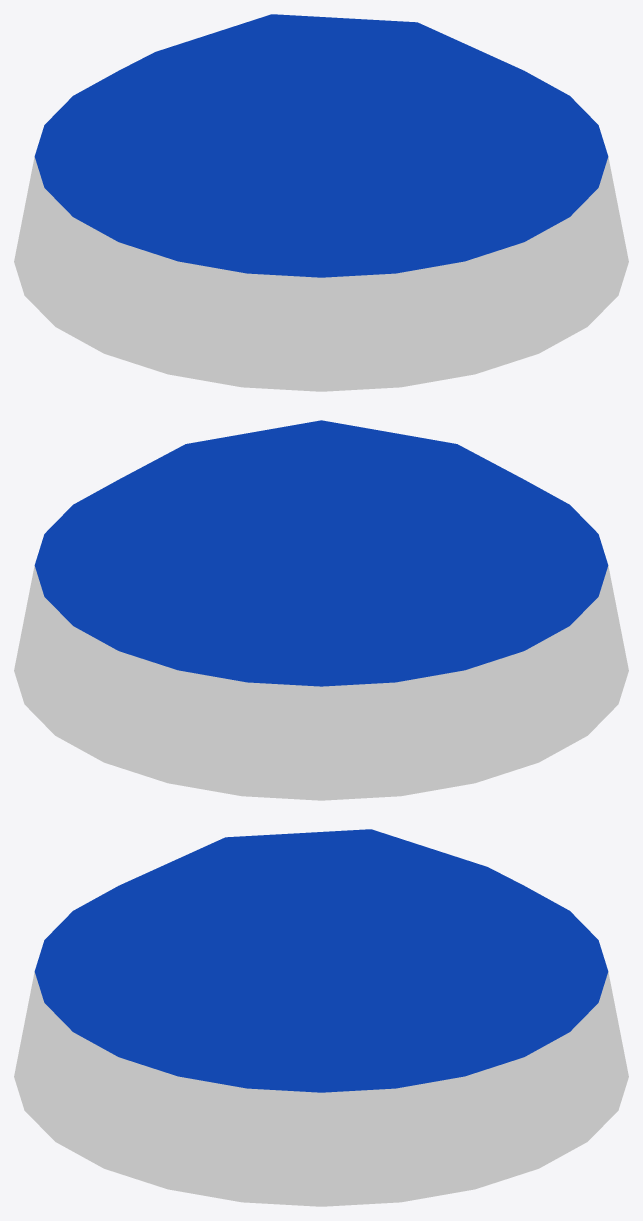
Rendered from Chunk6.obj.
3 views of the same model, one above another, from view 1: azimuth 30°, elevation 25°; view 2: azimuth 150°, elevation 25°; view 3: azimuth 270°, elevation 25° (orthographic).
Size of the model in its own units: 100000 by 36392 by 100000.
